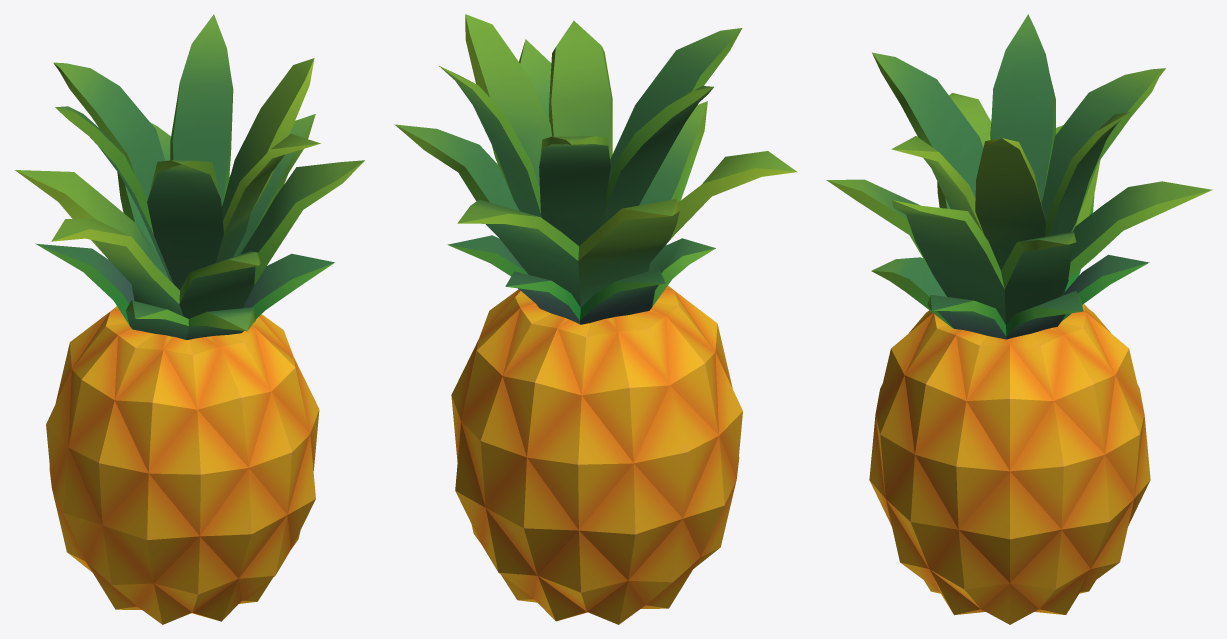
File: Pineapple_Whole_01.fbx
The picture shows the model from 3 angles, left to right: view 1: azimuth 30°, elevation 25°; view 2: azimuth 150°, elevation 25°; view 3: azimuth 270°, elevation 25°; orthographic projection. The views are drawn at different scales.
Visible parts, largest first — view 1: Pineapple_Whole_01; view 2: Pineapple_Whole_01; view 3: Pineapple_Whole_01.
Boxes of the visible parts, x1,y1,x2,y2 form: Pineapple_Whole_01: [15, 14, 364, 624]; Pineapple_Whole_01: [394, 14, 796, 624]; Pineapple_Whole_01: [826, 14, 1212, 624].
Bounding box in the file's own units: 0.7185 × 1.13 × 0.7341.
